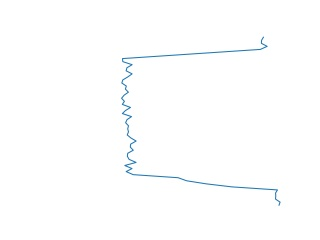distributaryChannelFill: (118, 35, 285, 205)
